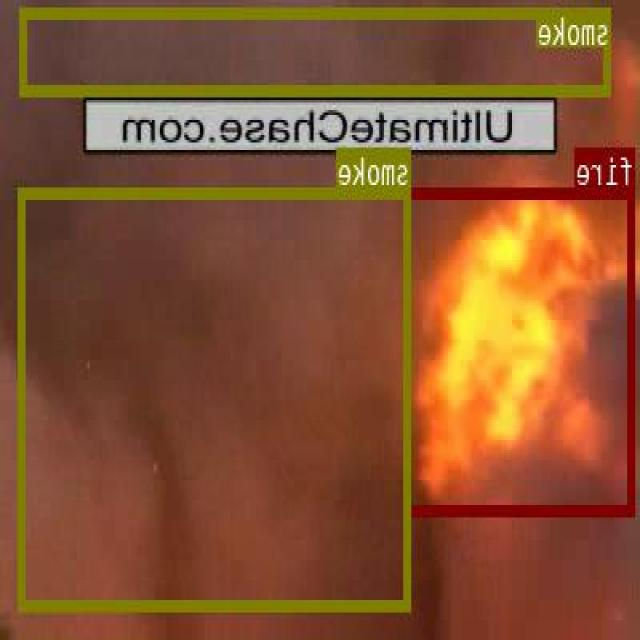fire: (406, 185, 636, 514)
smoke: (20, 187, 412, 610), (22, 7, 611, 94)
